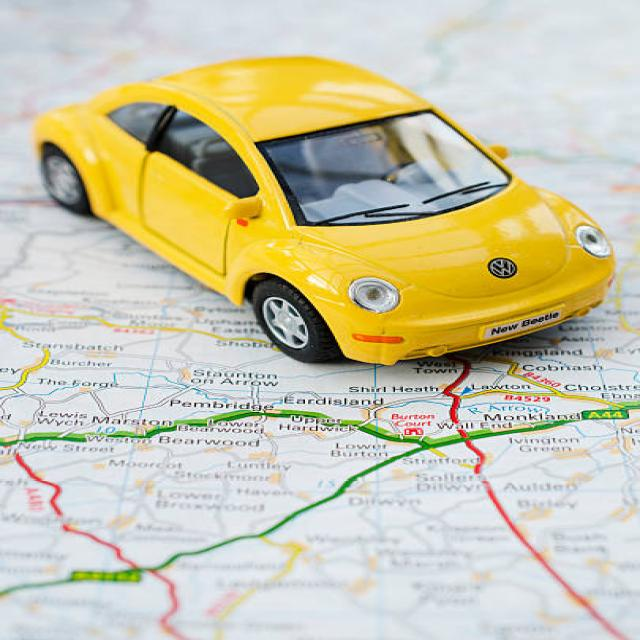Car: (32, 54, 616, 365)
